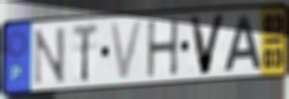A: (222, 13, 263, 73)
H: (146, 17, 181, 80)
N: (32, 25, 67, 88)
T: (71, 21, 99, 85)
V: (187, 12, 229, 78), (108, 18, 146, 83)
